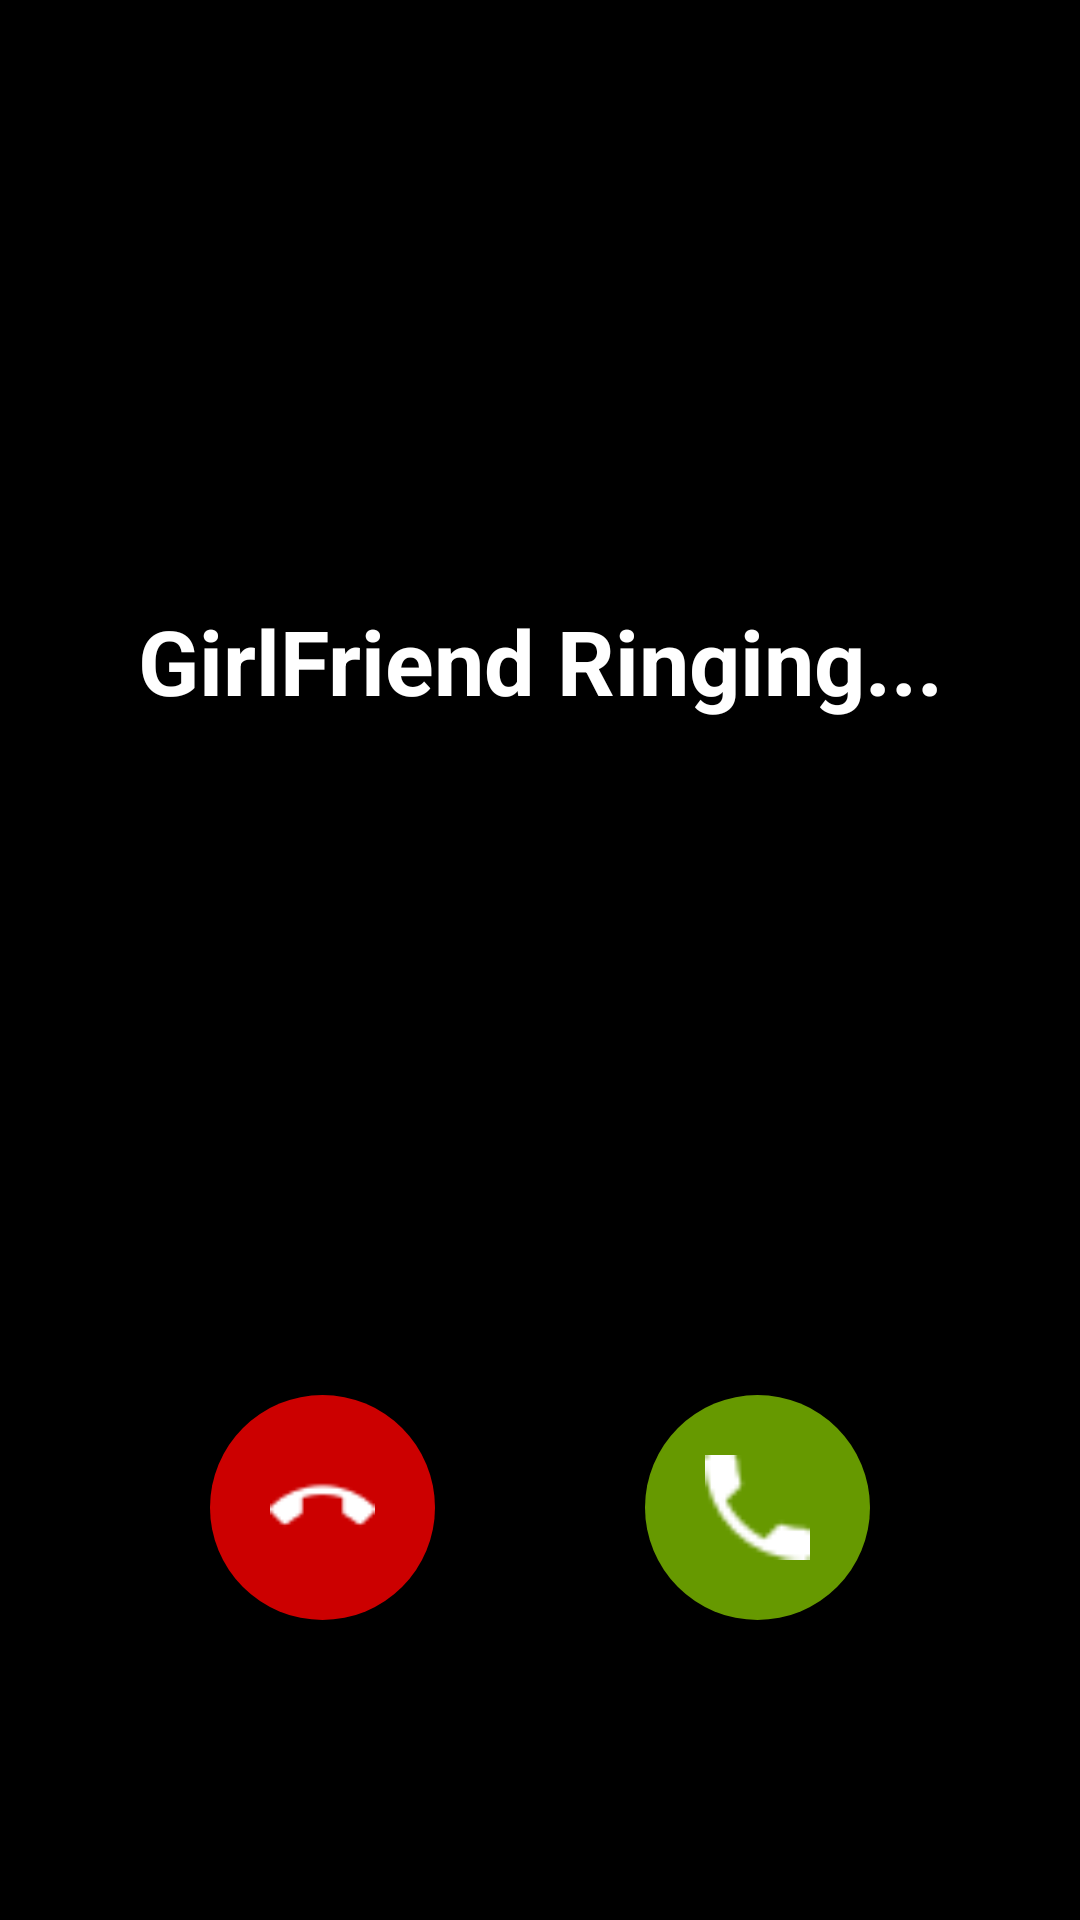

Named icons in this screenshot (1080 x 1920) and their centers, [x,y]:
phoneicon: [757,1507]
